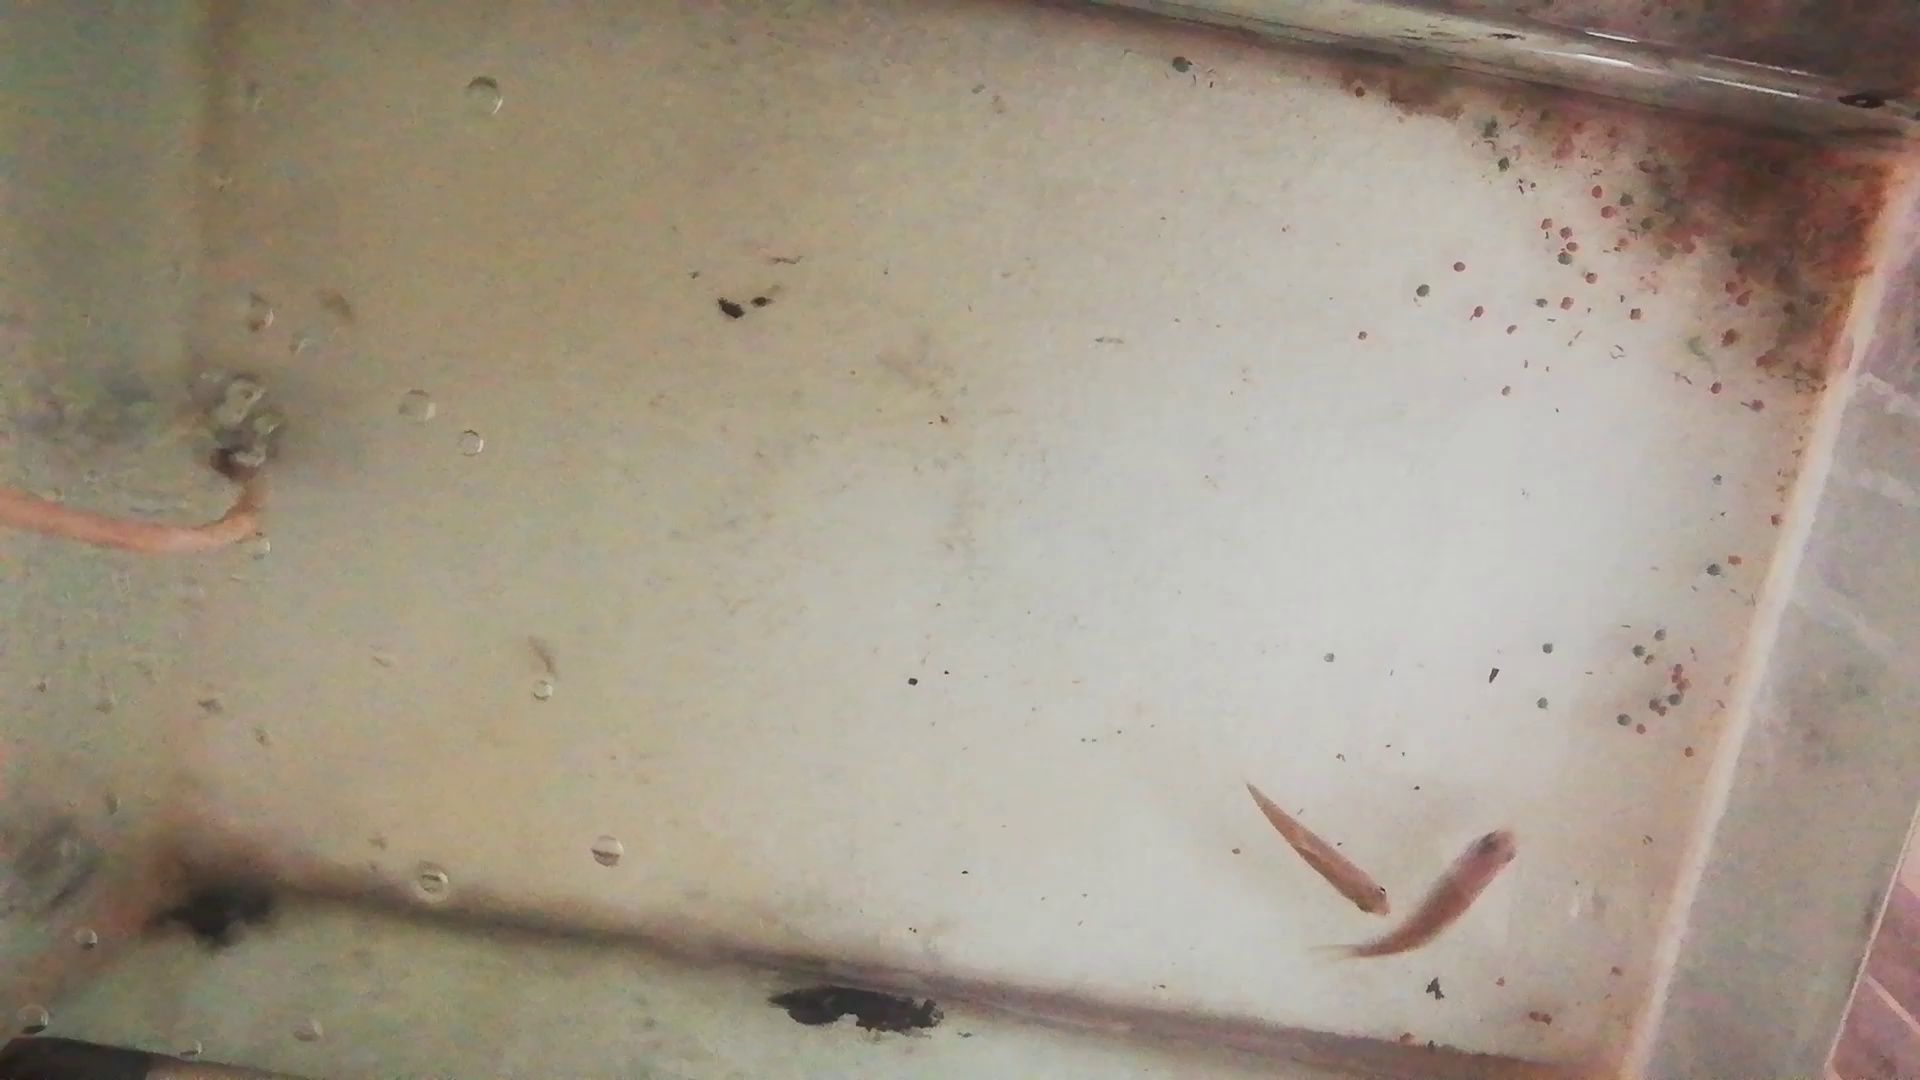fish: (1352, 822, 1519, 964), (1245, 781, 1393, 920)
